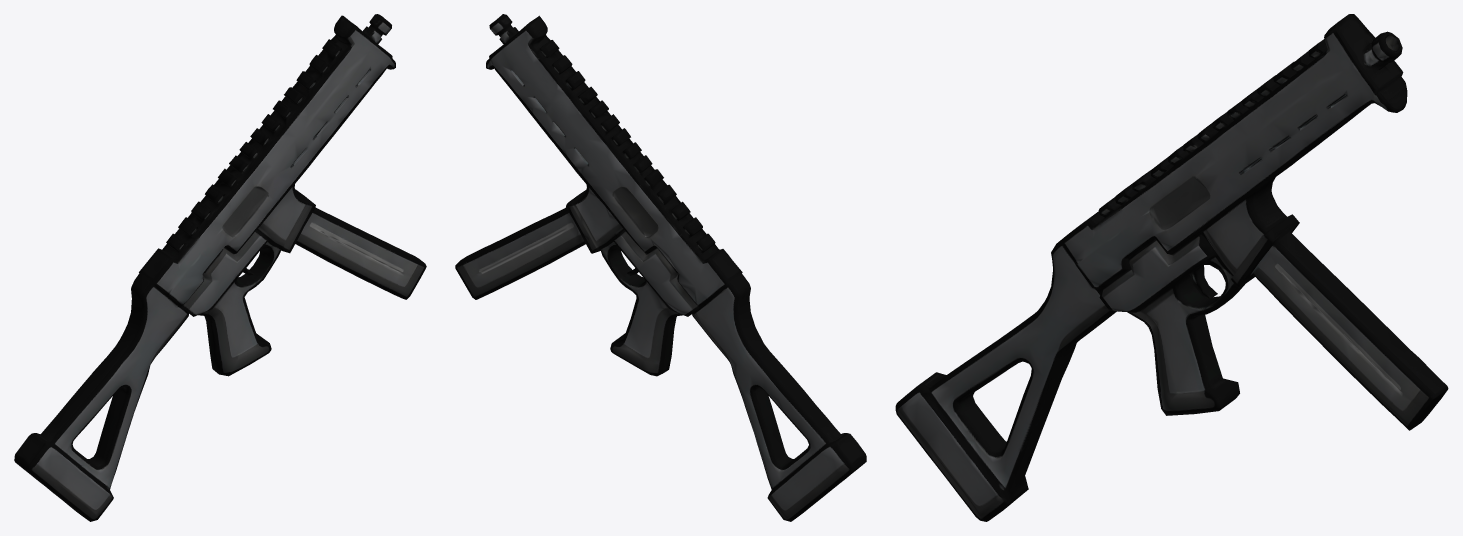
File: subfusil.fbx
3 views of the same model, side by side, from view 1: azimuth 30°, elevation 25°; view 2: azimuth 150°, elevation 25°; view 3: azimuth 330°, elevation 25° (orthographic). The views are drawn at different scales.
Parts seen in each view (by area): view 1: tripo_node_092250d5; view 2: tripo_node_092250d5; view 3: tripo_node_092250d5.
Part boxes in pixels (box(x1,y1,x2,y2)): tripo_node_092250d5: box(14, 14, 426, 521); tripo_node_092250d5: box(455, 14, 866, 521); tripo_node_092250d5: box(895, 14, 1448, 521).
Size of the model in its own units: 96.77 by 8.72 by 100.
1 material, 1 textured.
